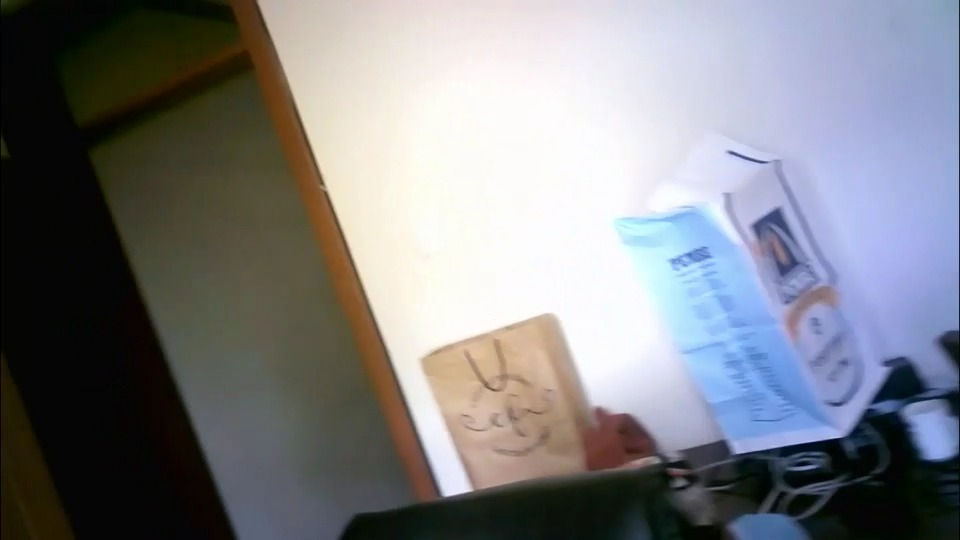wheat_flour_blue_label: (614, 133, 891, 451)
